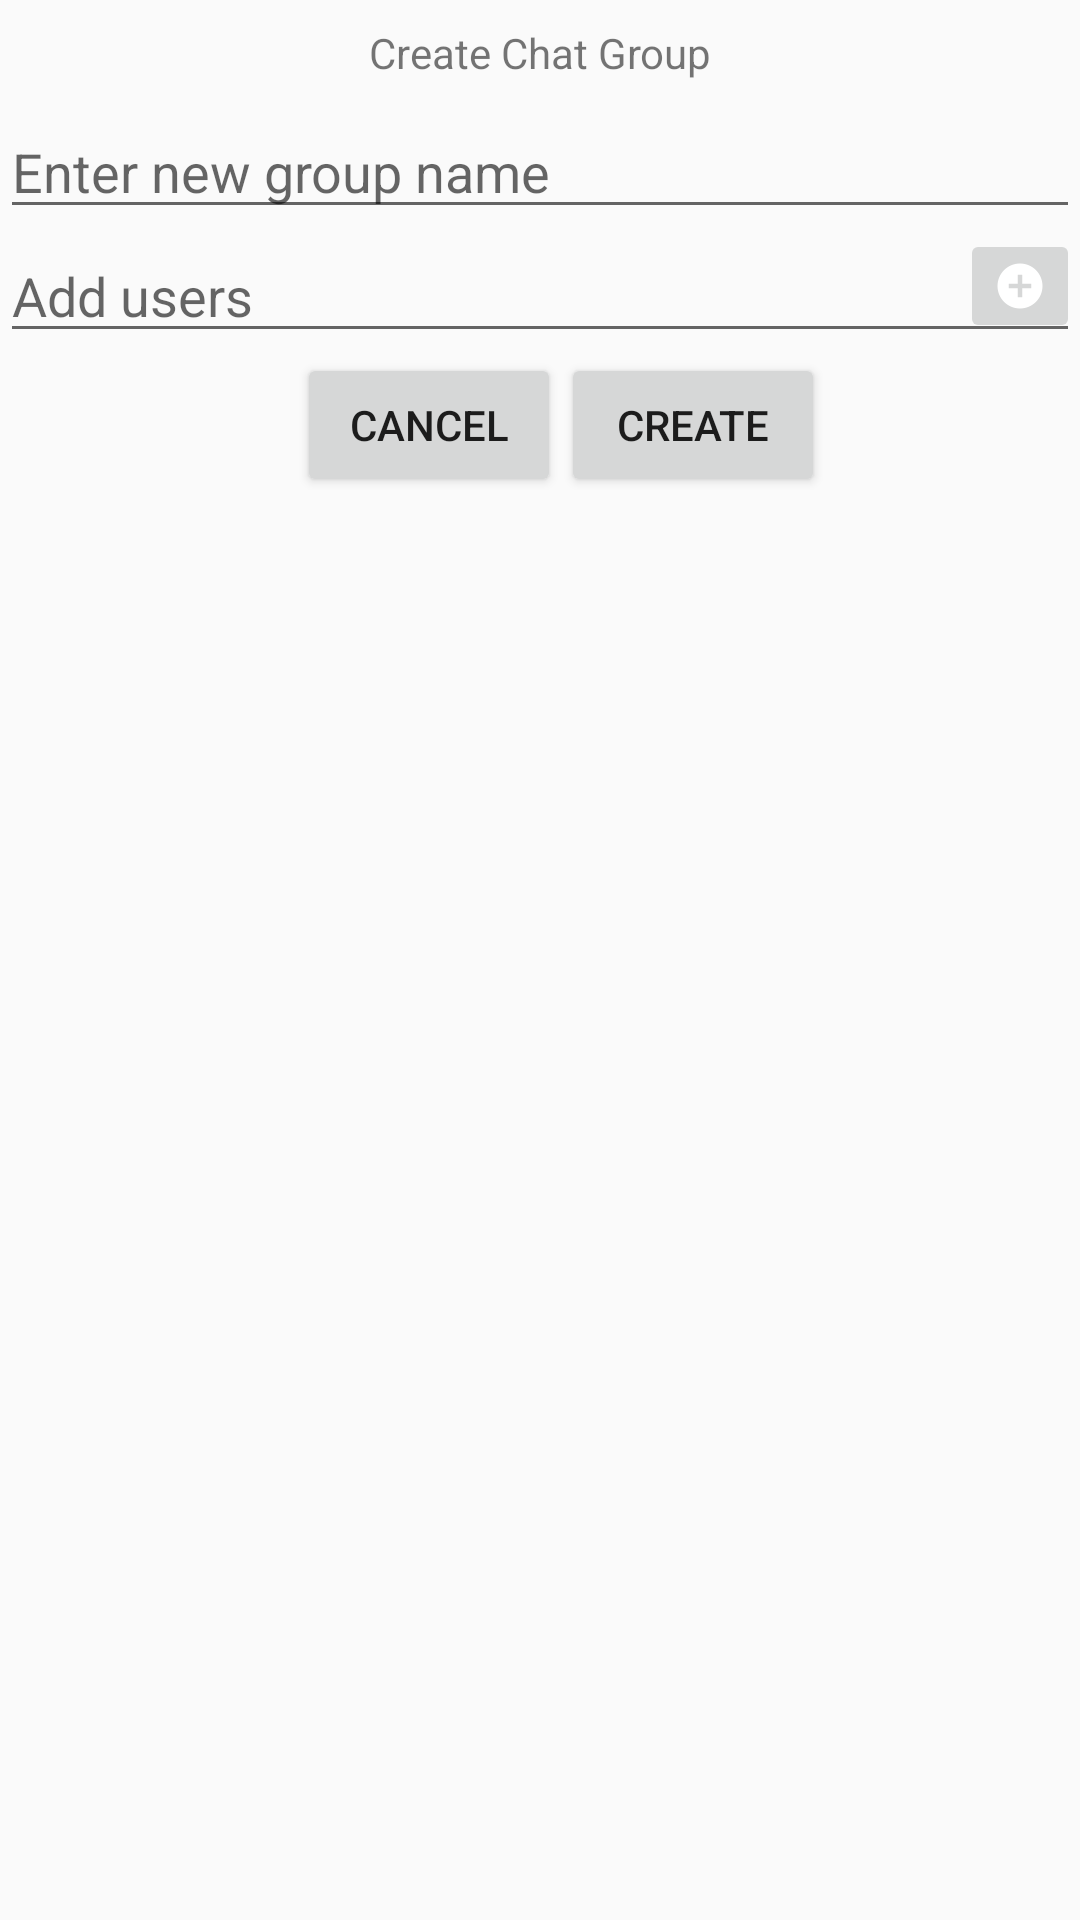

Where icons sit on this 1080*1920 app screen, as (x1, y1, x2, y2):
add circle: (972, 247, 1068, 325)
